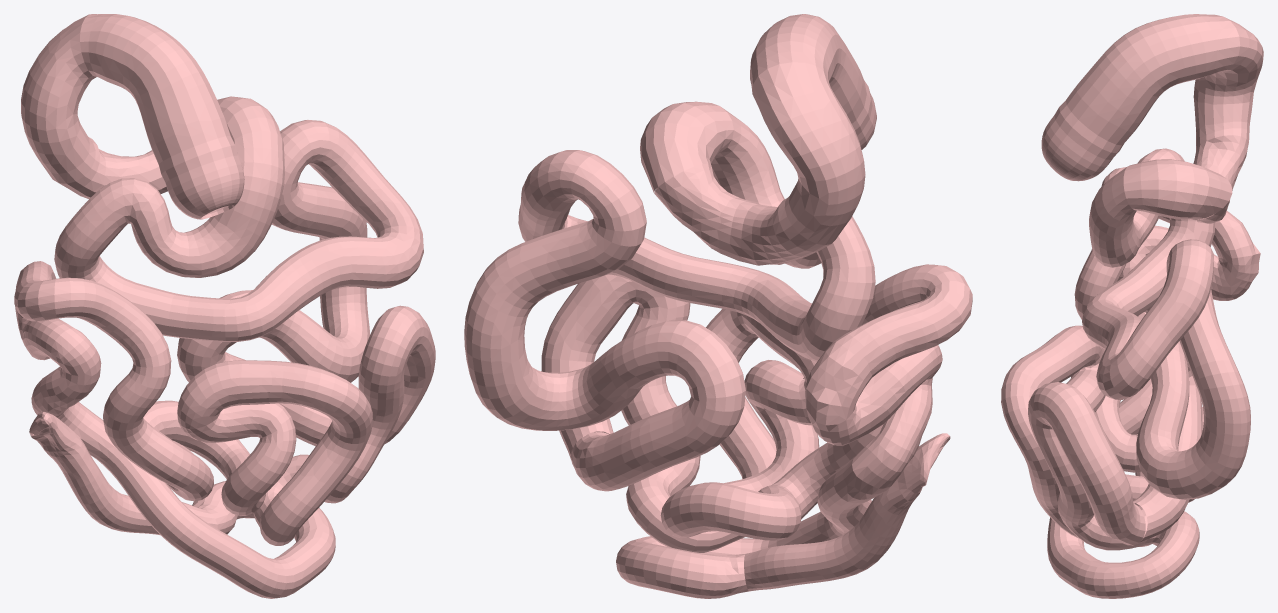
Rendered from VH_F_Small_Intestine_0.8.glb.
3 renders of one model, left to right at view 1: azimuth 30°, elevation 25°; view 2: azimuth 150°, elevation 25°; view 3: azimuth 270°, elevation 25°, orthographic. The views are drawn at different scales.
Visible parts, largest first — view 1: VH_F_ileum, VH_F_jejenum, VH_F_duodenum_superior, VH_F_duodenum_descending, VH_F_ileum_terminal, VH_F_duodenal_ampulla, VH_F_duodenum_horizontal, VH_F_duodenum_ascending; view 2: VH_F_ileum, VH_F_jejenum, VH_F_duodenum_descending, VH_F_ileum_terminal, VH_F_duodenum_horizontal, VH_F_duodenum_superior, VH_F_duodenum_ascending; view 3: VH_F_jejenum, VH_F_ileum, VH_F_duodenum_superior, VH_F_duodenum_ascending, VH_F_duodenum_descending, VH_F_duodenal_ampulla, VH_F_duodenum_horizontal.
Part boxes in pixels (x1=…): VH_F_ileum: x1=14, y1=261, x2=435, y2=598; VH_F_jejenum: x1=54, y1=120, x2=423, y2=446; VH_F_duodenum_superior: x1=80, y1=14, x2=234, y2=173; VH_F_duodenum_descending: x1=21, y1=14, x2=96, y2=183; VH_F_ileum_terminal: x1=29, y1=411, x2=217, y2=535; VH_F_duodenal_ampulla: x1=161, y1=145, x2=244, y2=219; VH_F_duodenum_horizontal: x1=59, y1=137, x2=167, y2=198; VH_F_duodenum_ascending: x1=217, y1=96, x2=281, y2=140; VH_F_ileum: x1=541, y1=264, x2=972, y2=598; VH_F_jejenum: x1=464, y1=107, x2=875, y2=491; VH_F_duodenum_descending: x1=752, y1=62, x2=865, y2=245; VH_F_ileum_terminal: x1=744, y1=433, x2=950, y2=591; VH_F_duodenum_horizontal: x1=654, y1=163, x2=830, y2=265; VH_F_duodenum_superior: x1=750, y1=14, x2=870, y2=130; VH_F_duodenum_ascending: x1=640, y1=101, x2=733, y2=193; VH_F_jejenum: x1=1082, y1=148, x2=1250, y2=542; VH_F_ileum: x1=1001, y1=167, x2=1260, y2=598; VH_F_duodenum_superior: x1=1059, y1=14, x2=1240, y2=153; VH_F_duodenum_ascending: x1=1123, y1=159, x2=1232, y2=219; VH_F_duodenum_descending: x1=1193, y1=17, x2=1263, y2=142; VH_F_duodenal_ampulla: x1=1041, y1=108, x2=1119, y2=181; VH_F_duodenum_horizontal: x1=1193, y1=128, x2=1249, y2=223.
Bounding box in the file's own units: 0.1616 × 0.2172 × 0.1.
